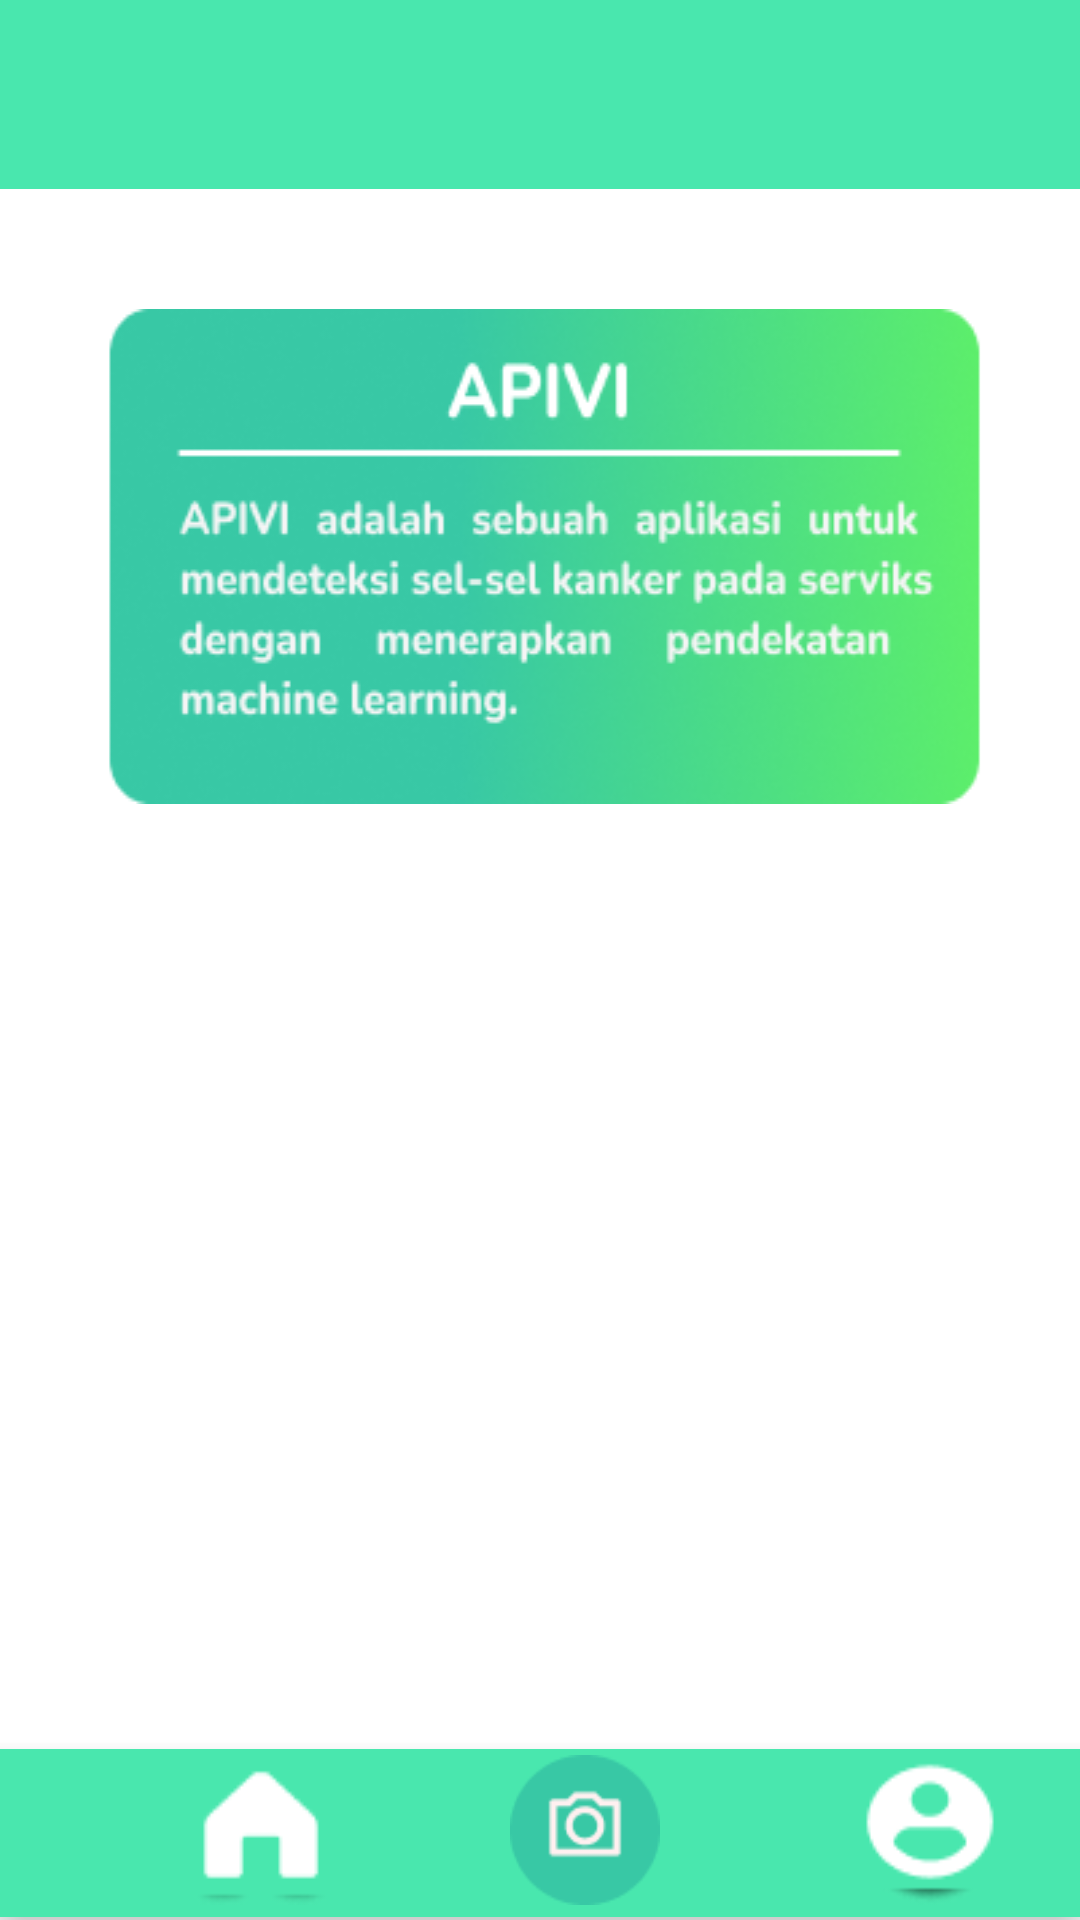

Icons on this 1080px x 1920px Android screen, each with the point to tap as [x,y]:
home: [261,1834]
